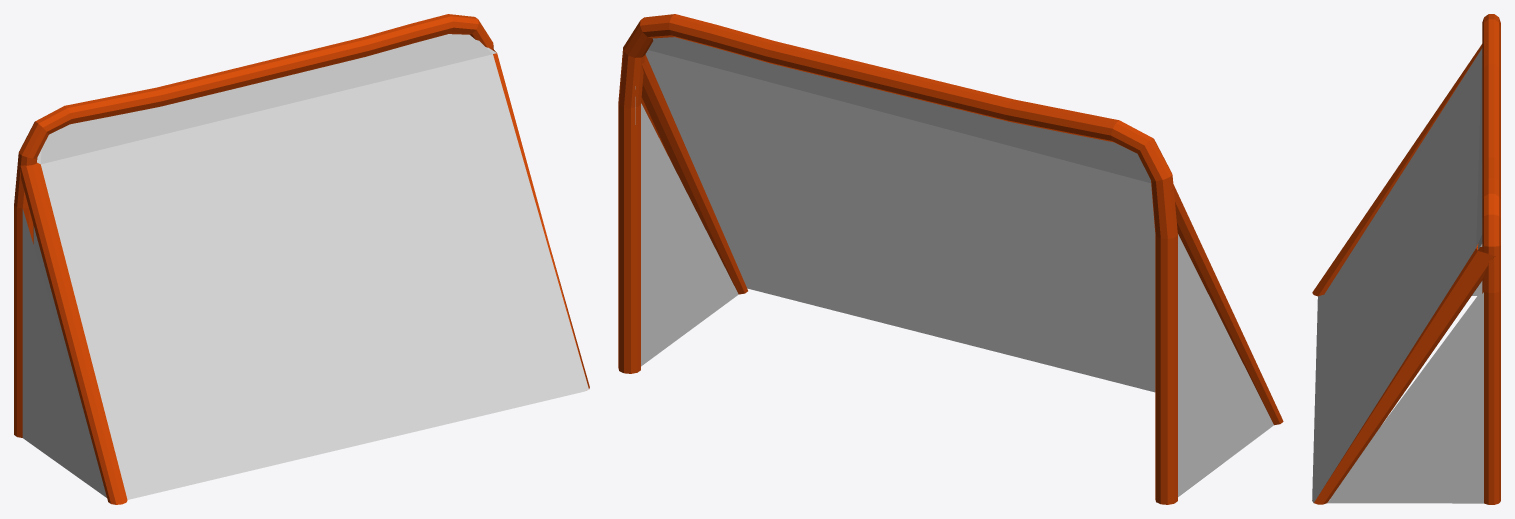
Rendered from kale.fbx.
3 views of the same model, side by side, from view 1: azimuth 30°, elevation 25°; view 2: azimuth 150°, elevation 25°; view 3: azimuth 270°, elevation 25° (orthographic). The views are drawn at different scales.
Parts seen in each view (by area): view 1: kale; view 2: kale; view 3: kale.
Boxes of the visible parts, box(x1,y1,x2,y2) form: kale: box(14, 14, 589, 504); kale: box(618, 14, 1283, 504); kale: box(1312, 14, 1500, 504).
Bounding box in the file's own units: 321 × 202 × 118.
